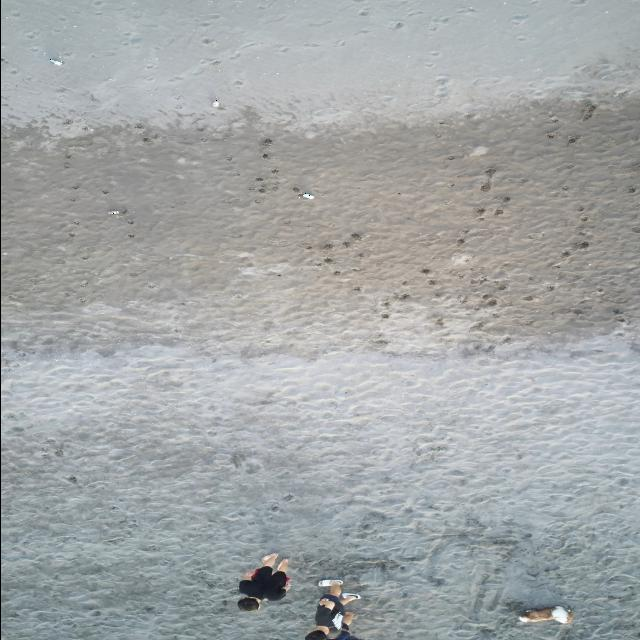Garbage: (519, 606, 572, 623), (108, 207, 125, 215), (48, 57, 62, 64), (299, 192, 313, 198), (212, 100, 219, 108)
